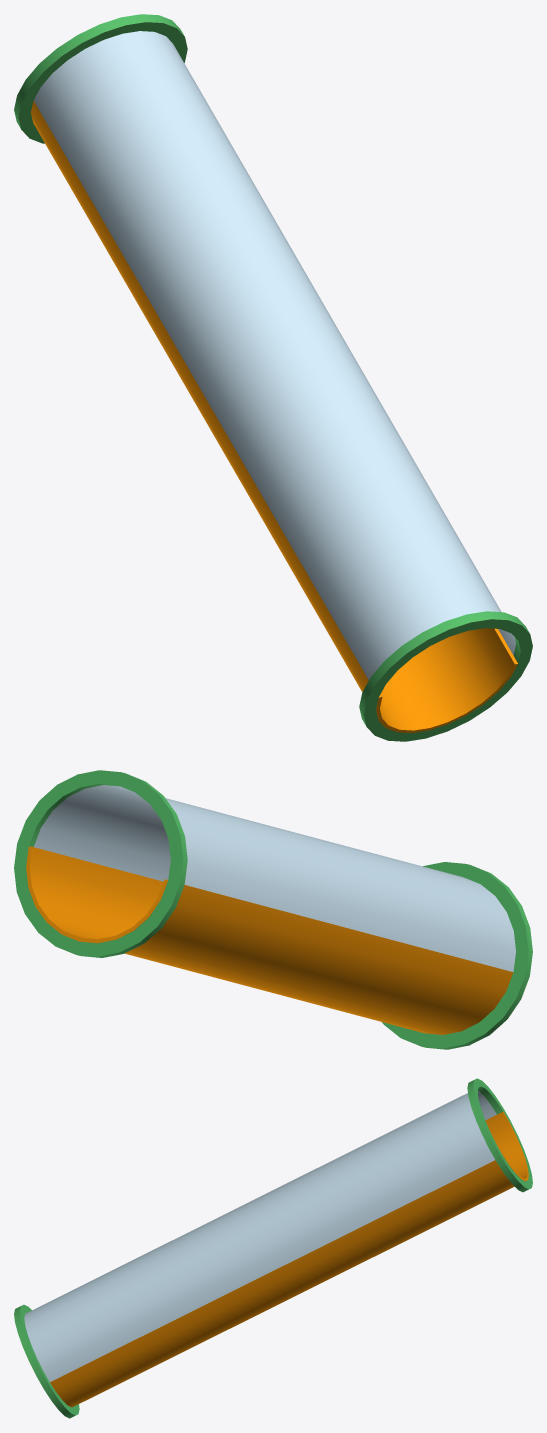
The model's file is Slide4.fbx.
The picture shows the model from 3 angles, top to bottom: view 1: azimuth 30°, elevation 25°; view 2: azimuth 150°, elevation 25°; view 3: azimuth 270°, elevation 25°; orthographic projection. The views are drawn at different scales.
Visible parts, largest first — view 1: Slide4; view 2: Slide4; view 3: Slide4.
Boxes of the visible parts, x1,y1,x2,y2 form: Slide4: (14,14,532,741); Slide4: (14,770,532,1049); Slide4: (14,1078,532,1418).
Size of the model in its own units: 2.34 by 6.84 by 9.83.
